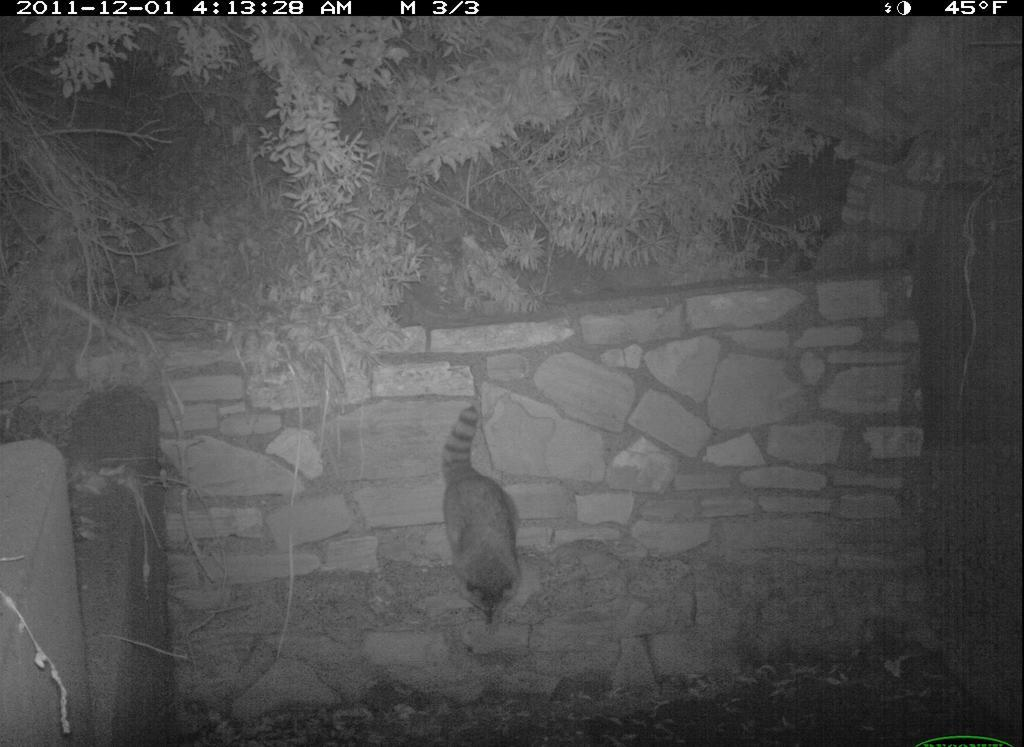raccoon: (434, 388, 539, 635)
